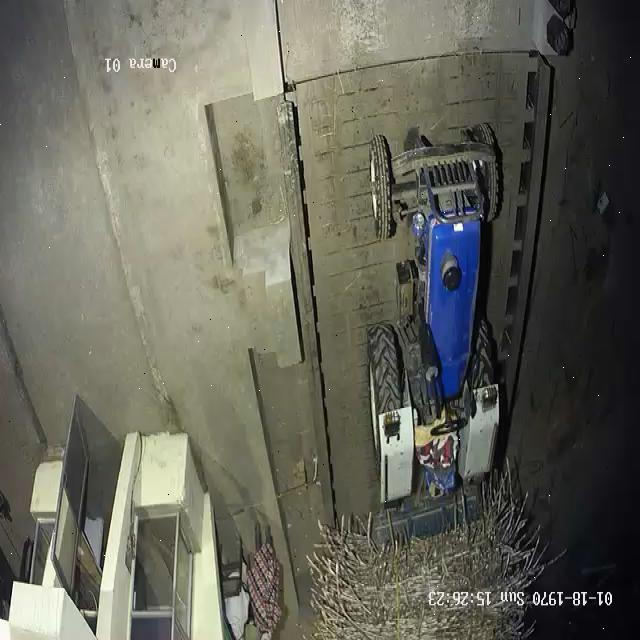Tratores - v5 YOLO V8L 2024-11-13: (360, 110, 506, 502)
